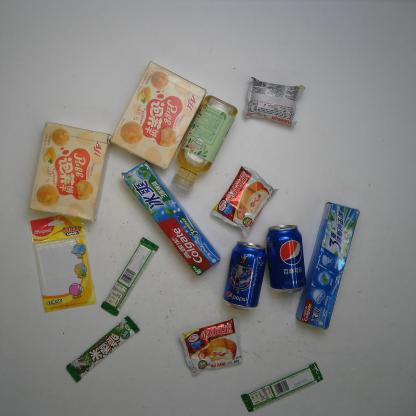Chocolate: (63, 314, 142, 386), (100, 238, 162, 316), (240, 362, 330, 413)
Dessert: (106, 58, 206, 173), (25, 120, 112, 224), (208, 164, 278, 239), (181, 317, 248, 376), (242, 74, 308, 129)
Drink: (169, 93, 239, 194), (219, 242, 270, 312), (266, 221, 309, 296)
Personal Hygiene: (118, 158, 222, 284), (294, 199, 361, 330)
Stationery: (28, 212, 101, 311)
